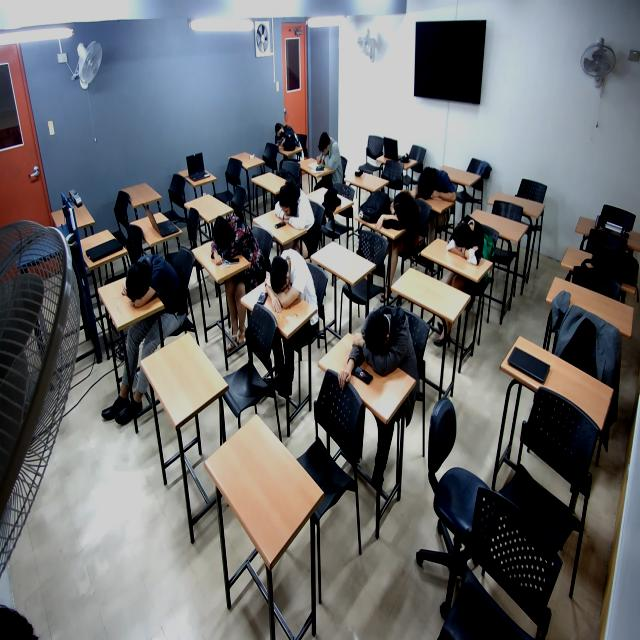sleep: (352, 310, 419, 375), (263, 247, 315, 311), (207, 216, 261, 270), (122, 254, 173, 307), (414, 156, 459, 214), (377, 188, 417, 236), (271, 182, 311, 228), (448, 218, 487, 264), (274, 122, 298, 150)
